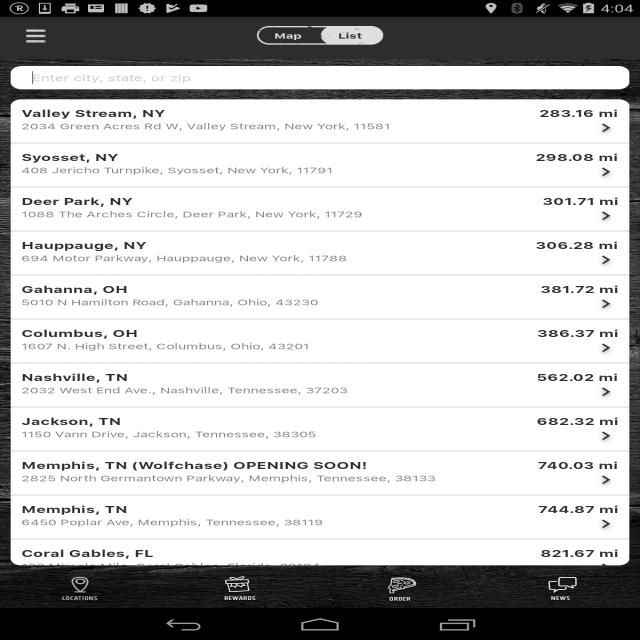EditText: (6, 61, 634, 95)
ImageButton: (16, 27, 54, 50)
TextView: (17, 192, 378, 226), (19, 456, 440, 484), (22, 102, 387, 132), (18, 148, 355, 178), (15, 500, 338, 531), (16, 411, 326, 443), (18, 280, 336, 311), (528, 499, 623, 516), (528, 237, 622, 254), (534, 411, 622, 429), (528, 104, 619, 119)
